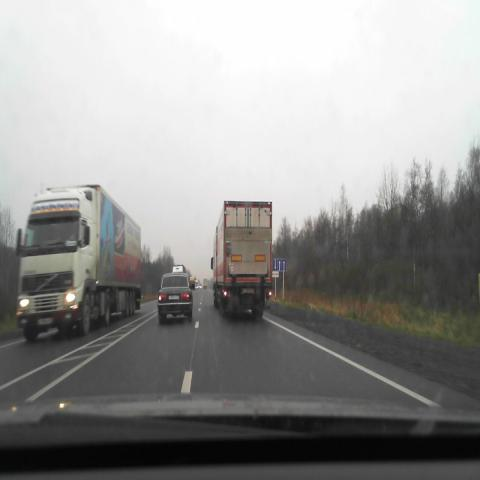5_15_7: (273, 258, 287, 271)
